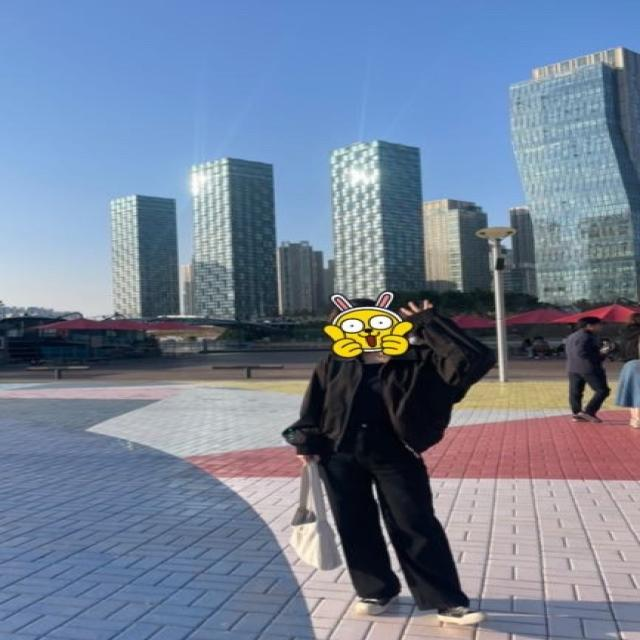denimpants: (320, 426, 474, 612)
jacket: (288, 318, 498, 459)
